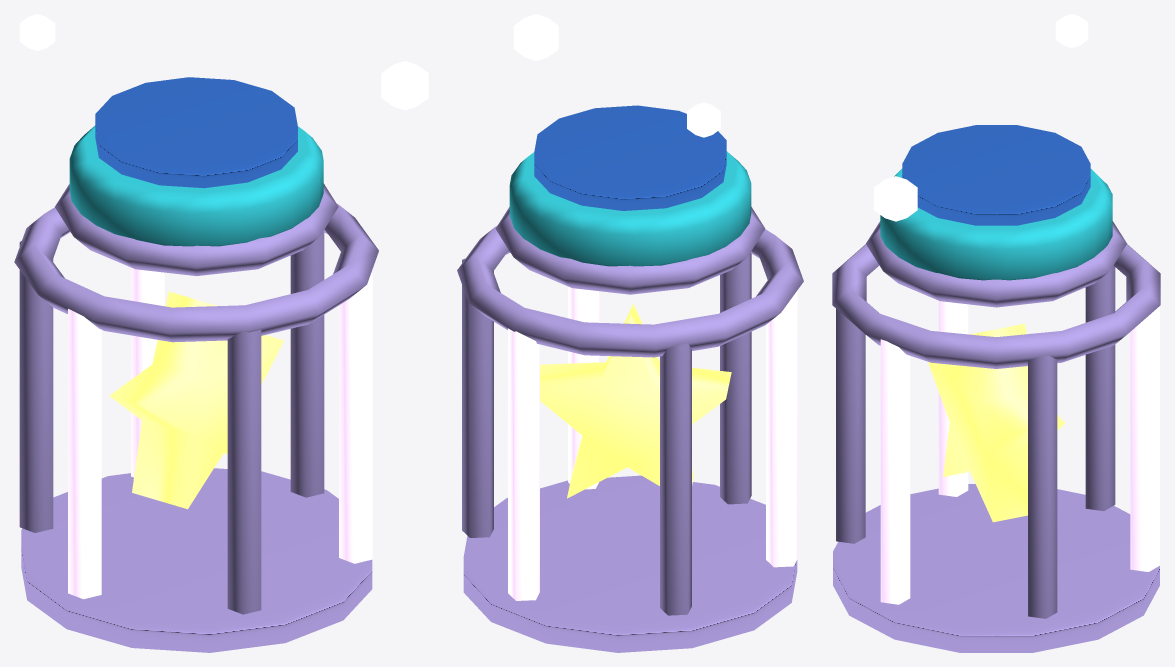
Rendered from star_jar.glb.
3 views of the same model, side by side, from view 1: azimuth 30°, elevation 25°; view 2: azimuth 150°, elevation 25°; view 3: azimuth 270°, elevation 25° (orthographic). The views are drawn at different scales.
Parts seen in each view (by area): view 1: Jar; view 2: Jar; view 3: Jar.
Boxes of the visible parts, x1,y1,x2,y2 form: Jar: (14, 14, 428, 652); Jar: (457, 14, 803, 652); Jar: (832, 14, 1160, 652).
Size of the model in its own units: 0.279 by 0.455 by 0.2613.
